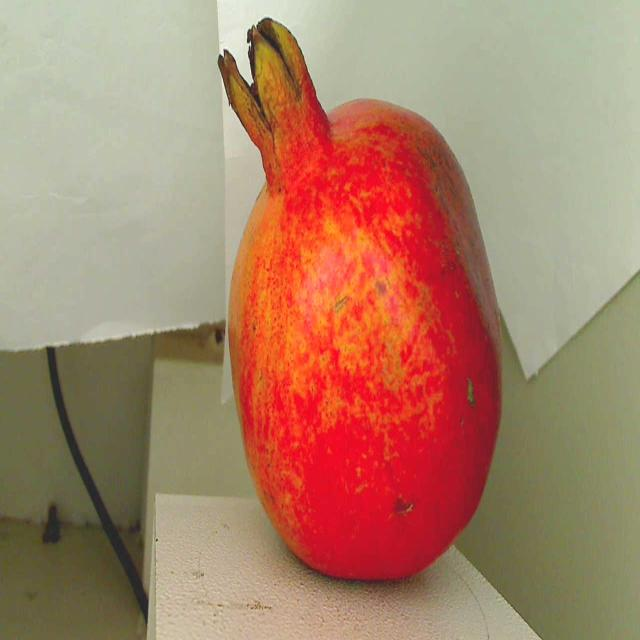pomegranate: (201, 0, 515, 593)
